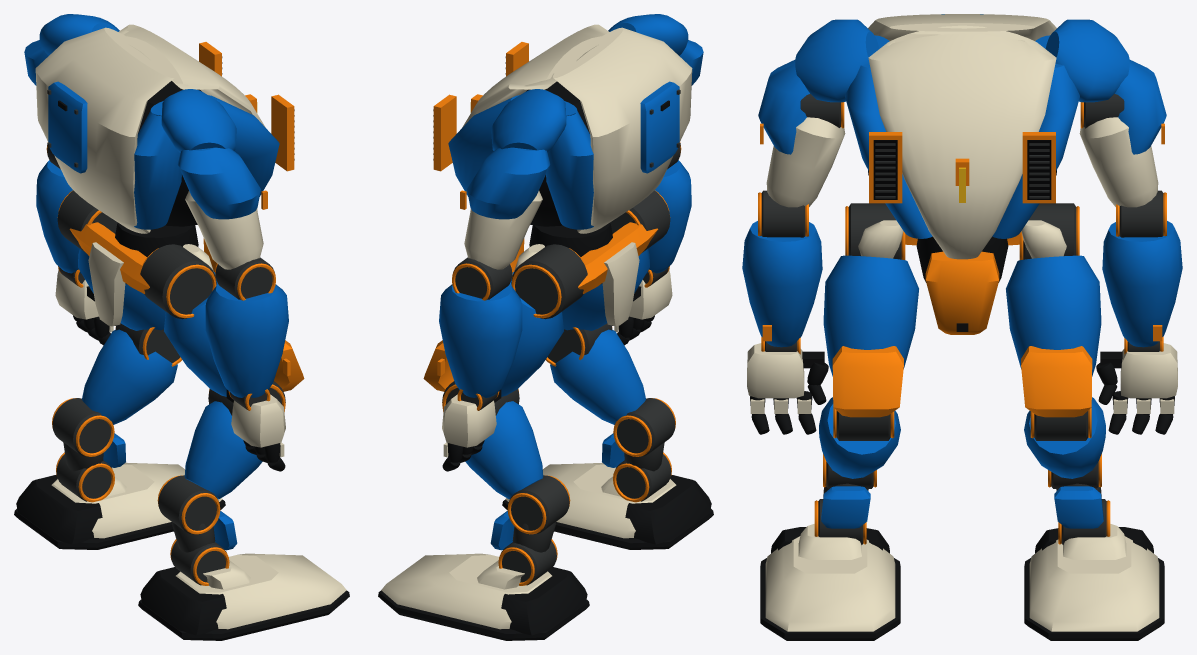
File: layout_b.glb
3 views of the same model, side by side, from view 1: azimuth 30°, elevation 25°; view 2: azimuth 150°, elevation 25°; view 3: azimuth 270°, elevation 25° (orthographic). The views are drawn at different scales.
Visible parts, largest first — view 1: ivory_back_carapace, right_blue_forearm, right_ivory_foot_upper, left_blue_middle_shank, right_blue_outer_deltoid, right_blue_middle_shank, left_ivory_foot_upper, right_blue_rear_side_transition, right_upper_blue_shoulder_bridge, right_hip_housing, left_dark_rear_heel, right_dark_rear_heel (+33 smaller); view 2: ivory_back_carapace, left_blue_forearm, left_ivory_foot_upper, right_blue_middle_shank, left_blue_outer_deltoid, left_blue_middle_shank, right_ivory_foot_upper, left_blue_rear_side_transition, left_upper_blue_shoulder_bridge, left_hip_housing, right_dark_rear_heel, left_dark_rear_heel (+33 smaller); view 3: ivory_chest_wedge, left_ivory_foot_upper, right_ivory_foot_upper, left_blue_thigh, right_blue_thigh, left_blue_forearm, right_blue_forearm, saffron_front_pelvis, right_upper_blue_shoulder_bridge, left_upper_blue_shoulder_bridge, left_orange_knee_guard, right_orange_knee_guard (+36 smaller).
Part boxes in pixels (x1,y1,x2,y2): ivory_back_carapace: (35, 27, 175, 233); right_blue_forearm: (205, 284, 288, 397); right_ivory_foot_upper: (176, 553, 346, 629); left_blue_middle_shank: (82, 329, 177, 424); right_blue_outer_deltoid: (177, 147, 260, 219); right_blue_middle_shank: (184, 401, 262, 499); left_ivory_foot_upper: (51, 462, 222, 538); right_blue_rear_side_transition: (134, 103, 181, 229); right_upper_blue_shoulder_bridge: (161, 89, 236, 152); right_hip_housing: (140, 244, 216, 319); left_dark_rear_heel: (16, 475, 102, 544); right_dark_rear_heel: (140, 567, 226, 635); ivory_back_carapace: (552, 27, 692, 233); left_blue_forearm: (439, 284, 522, 397); left_ivory_foot_upper: (381, 553, 551, 629); right_blue_middle_shank: (550, 329, 645, 424); left_blue_outer_deltoid: (467, 147, 550, 219); left_blue_middle_shank: (465, 401, 543, 499); right_ivory_foot_upper: (505, 462, 676, 538); left_blue_rear_side_transition: (546, 103, 593, 229); left_upper_blue_shoulder_bridge: (491, 89, 566, 152); left_hip_housing: (511, 244, 587, 319); right_dark_rear_heel: (625, 475, 711, 544); left_dark_rear_heel: (501, 567, 587, 635); ivory_chest_wedge: (868, 25, 1056, 259); left_ivory_foot_upper: (1029, 536, 1159, 631); right_ivory_foot_upper: (765, 536, 895, 631); left_blue_thigh: (1006, 255, 1101, 376); right_blue_thigh: (823, 255, 918, 376); left_blue_forearm: (1102, 221, 1182, 347); right_blue_forearm: (742, 221, 822, 347); saffron_front_pelvis: (925, 251, 999, 334); right_upper_blue_shoulder_bridge: (795, 19, 879, 102); left_upper_blue_shoulder_bridge: (1045, 19, 1129, 102); left_orange_knee_guard: (1021, 346, 1092, 417); right_orange_knee_guard: (832, 346, 903, 417).
Bounding box in the file's own units: 1.09 × 2.65 × 1.92.
